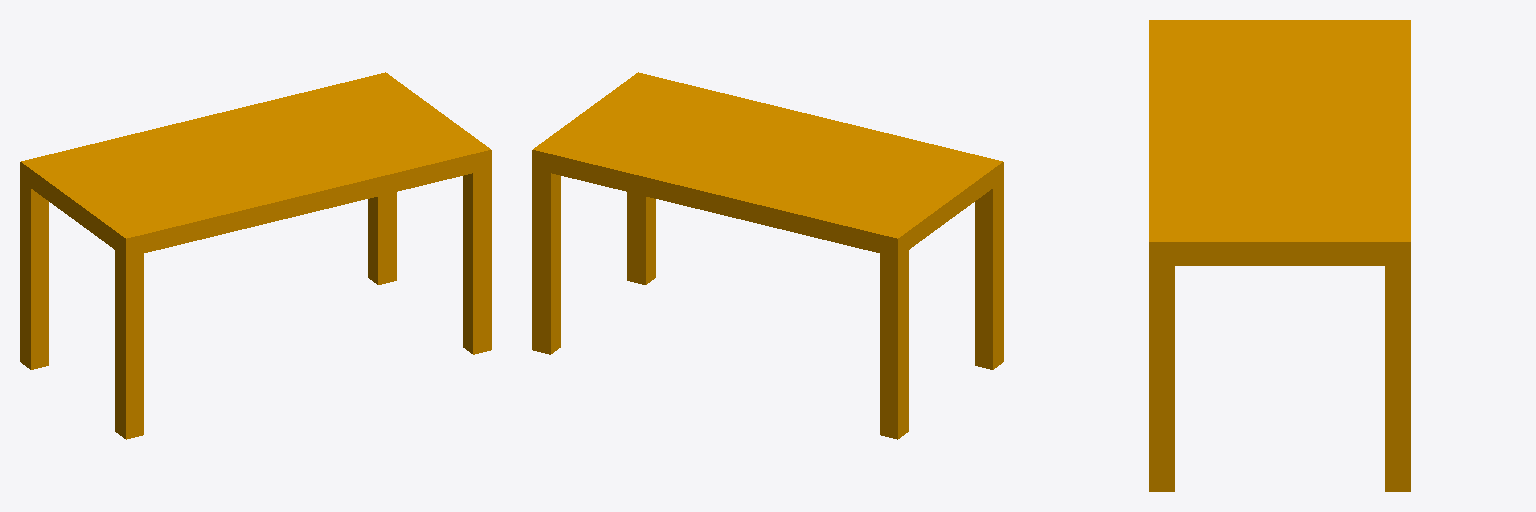
URDF robot description (table):
<?xml version="1.0" ?>
<robot name="table" version="1.0">
  <link name="table">
    <inertial>
      <origin xyz="0.0 0.0 -0.20000000298023224" rpy="3.1415927410125732 -1.5707963705062866 0.0"/>
      <mass value="10.0"/>
      <inertia ixx="6.926666736602783" ixy="0.0" ixz="0.0" iyy="6.551666736602783" iyz="0.0" izz="2.251666784286499"/>
    </inertial>
    <visual name="Geom_0">
      <origin xyz="0.0 0.0 0.0" rpy="0.0 0.0 0.0"/>
      <geometry>
        <box size="2.0 1.0 0.10000000149011612"/>
      </geometry>
    </visual>
    <visual name="Geom_1">
      <origin xyz="0.949999988079071 0.44999998807907104 -0.5" rpy="0.0 0.0 0.0"/>
      <geometry>
        <box size="0.10000000149011612 0.10000000149011612 1.0"/>
      </geometry>
    </visual>
    <visual name="Geom_2">
      <origin xyz="-0.949999988079071 0.44999998807907104 -0.5" rpy="0.0 0.0 0.0"/>
      <geometry>
        <box size="0.10000000149011612 0.10000000149011612 1.0"/>
      </geometry>
    </visual>
    <visual name="Geom_3">
      <origin xyz="0.949999988079071 -0.44999998807907104 -0.5" rpy="0.0 0.0 0.0"/>
      <geometry>
        <box size="0.10000000149011612 0.10000000149011612 1.0"/>
      </geometry>
    </visual>
    <visual name="Geom_4">
      <origin xyz="-0.949999988079071 -0.44999998807907104 -0.5" rpy="0.0 0.0 0.0"/>
      <geometry>
        <box size="0.10000000149011612 0.10000000149011612 1.0"/>
      </geometry>
    </visual>
  </link>
</robot>

--- What the picture shows (computed from the rendered views, not written in the file) ---
3 views of the same robot in one strip: view 1: azimuth 30°, elevation 25°; view 2: azimuth 150°, elevation 25°; view 3: azimuth 270°, elevation 25° (orthographic).
Robot: table — 1 links, 0 joints (none); root link table; default pose: all joints at 0.
Links seen in each view (by area): view 1: table; view 2: table; view 3: table.
Boxes of the visible links, left/top/right/bottom form: table: left=20, top=72, right=491, bottom=439; table: left=532, top=72, right=1003, bottom=439; table: left=1149, top=20, right=1410, bottom=491.
Bounding box of the posed robot: 2 × 1 × 1.05 m (x, y, z).
Geometry: primitives only (box / cylinder / sphere), no mesh files.